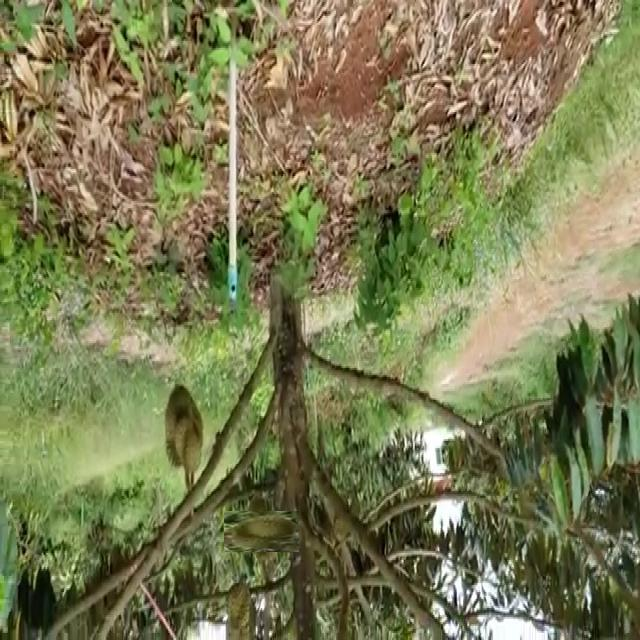durian: (163, 380, 207, 474), (232, 502, 291, 560)
